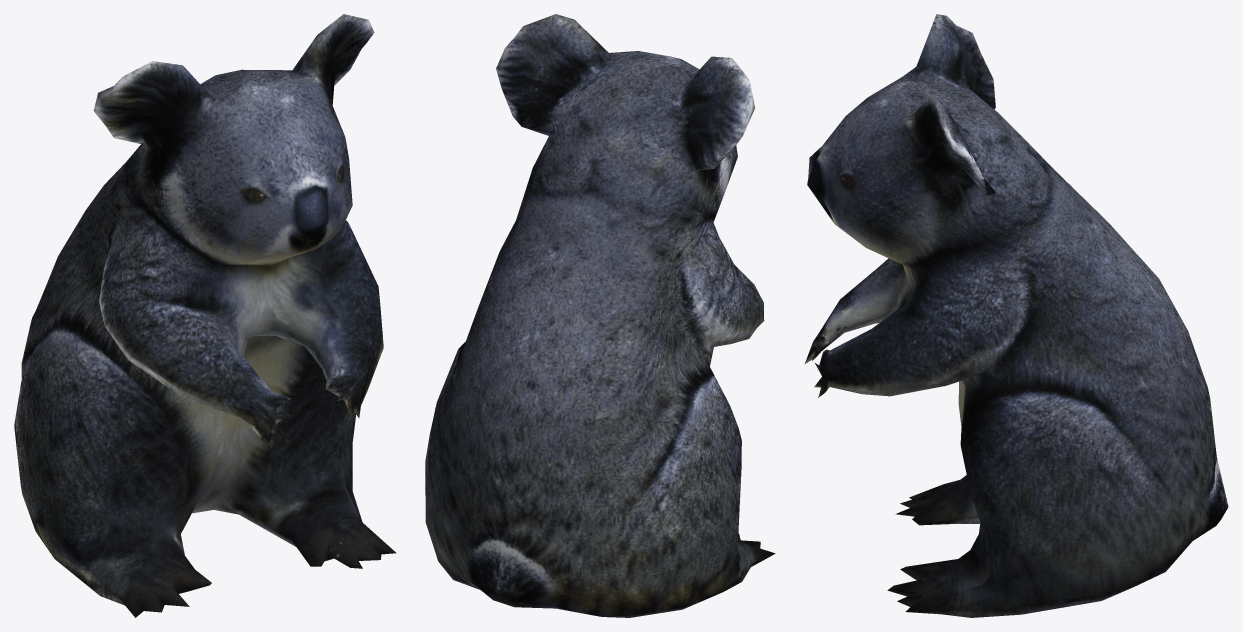
The model's file is uploads_files_5014700_Koala_Low_Poly.fbx.
3 renders of one model, left to right at view 1: azimuth 30°, elevation 25°; view 2: azimuth 150°, elevation 25°; view 3: azimuth 270°, elevation 25°, orthographic. The views are drawn at different scales.
Parts seen in each view (by area): view 1: Koala_Low_Poly; view 2: Koala_Low_Poly; view 3: Koala_Low_Poly.
Boxes of the visible parts, left/top/right/bottom form: Koala_Low_Poly: left=14, top=14, right=396, bottom=617; Koala_Low_Poly: left=425, top=14, right=775, bottom=617; Koala_Low_Poly: left=804, top=14, right=1228, bottom=617.
Size of the model in its own units: 37.59 by 62.83 by 47.65.
